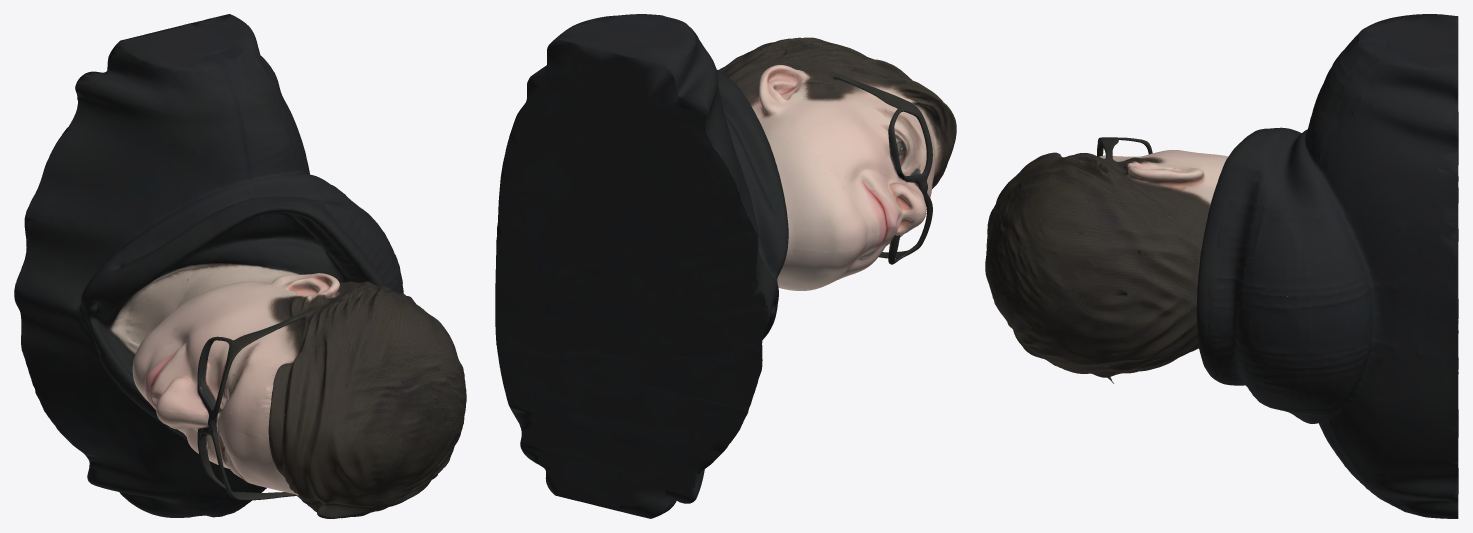
File: blaine.obj
3 renders of one model, left to right at view 1: azimuth 30°, elevation 25°; view 2: azimuth 150°, elevation 25°; view 3: azimuth 270°, elevation 25°, orthographic. The views are drawn at different scales.
Visible parts, largest first — view 1: obj1; view 2: obj1; view 3: obj1.
Part boxes in pixels (x1,y1,x2,y2): obj1: [14, 14, 466, 518]; obj1: [495, 14, 956, 518]; obj1: [985, 14, 1458, 518].
Bounding box in the file's own units: 0.6878 × 0.9991 × 0.9514.
1 material, 1 textured.
